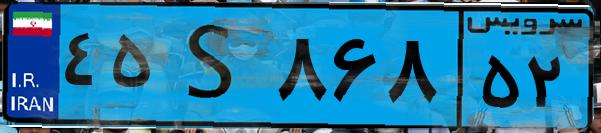2: (525, 38, 570, 115)
4: (57, 26, 110, 100)
5: (475, 38, 525, 113), (110, 28, 158, 98)
6: (330, 28, 385, 110)
8: (270, 28, 330, 110), (385, 28, 445, 110)
S: (158, 12, 270, 120)
